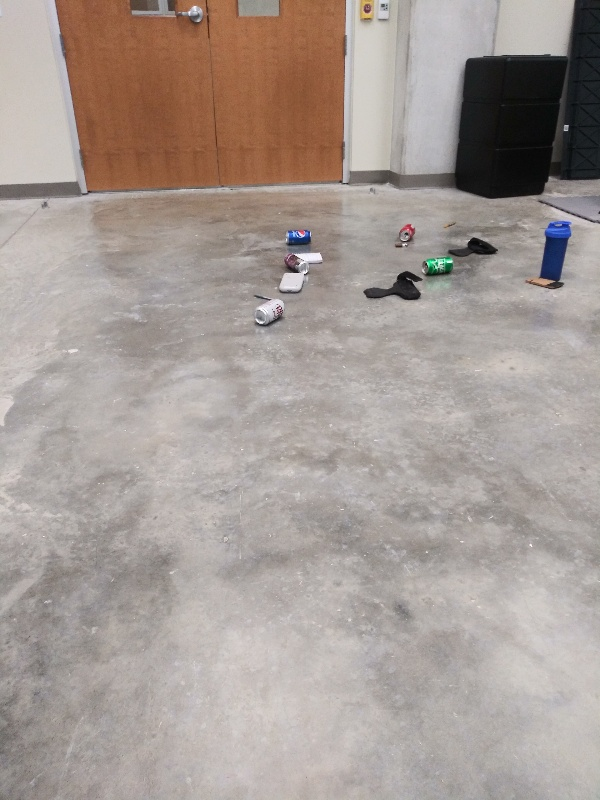can: (247, 298, 294, 328), (420, 254, 457, 278), (282, 249, 313, 274), (282, 226, 317, 245), (397, 220, 416, 242)
